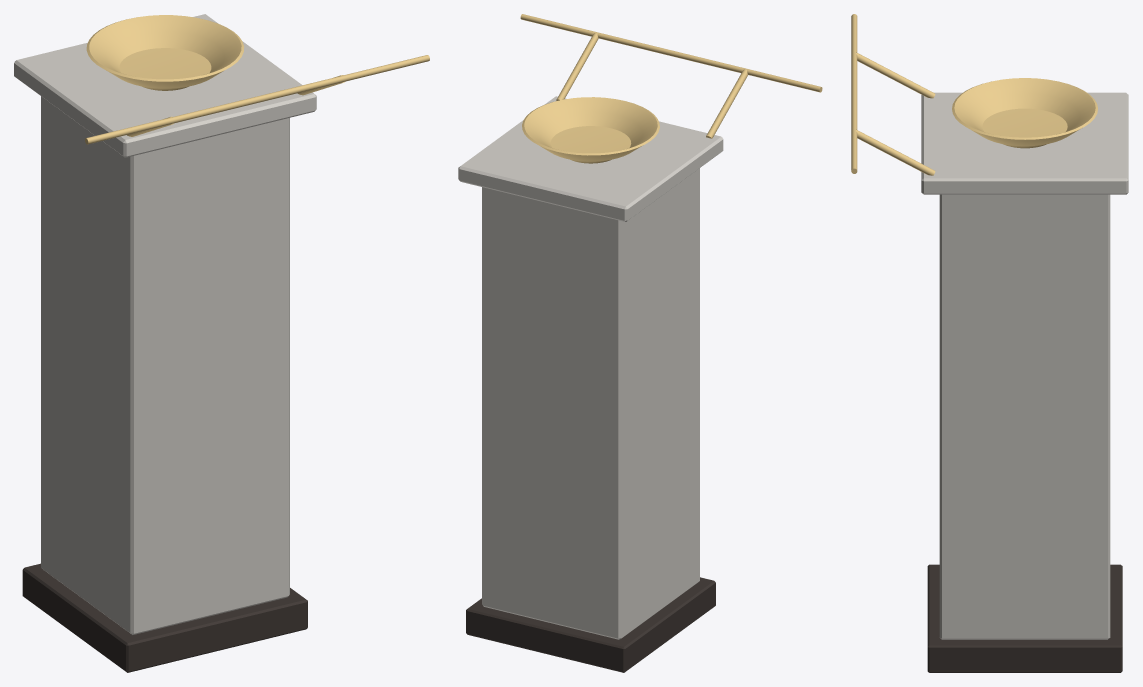
File: grain_cloud.glb
3 views of the same model, side by side, from view 1: azimuth 30°, elevation 25°; view 2: azimuth 150°, elevation 25°; view 3: azimuth 270°, elevation 25° (orthographic). The views are drawn at different scales.
Visible parts, largest first — view 1: GrainCloud; view 2: GrainCloud; view 3: GrainCloud.
Boxes of the visible parts, box(x1,y1,x2,y2) form: GrainCloud: box(14, 14, 429, 672); GrainCloud: box(458, 14, 822, 672); GrainCloud: box(851, 14, 1128, 672).
Bounding box in the file's own units: 0.6 × 0.9802 × 0.455.
